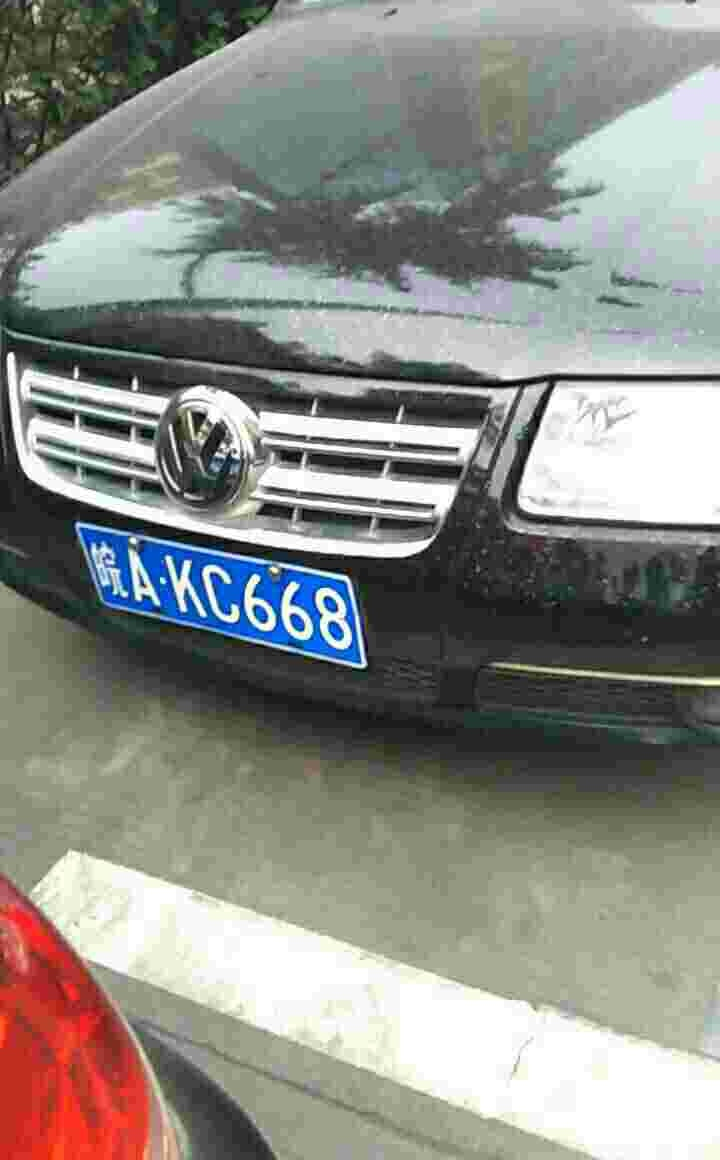license_plate: (73, 526, 360, 657)
